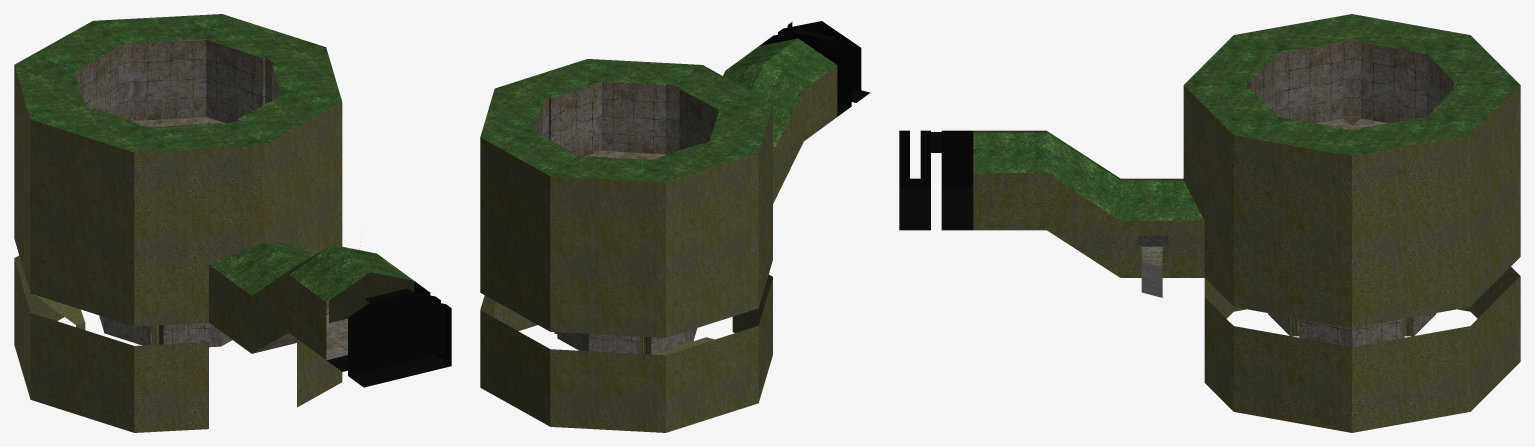
The model's file is ArenaINT.gltf.
3 renders of one model, left to right at view 1: azimuth 30°, elevation 25°; view 2: azimuth 150°, elevation 25°; view 3: azimuth 270°, elevation 25°, orthographic. The views are drawn at different scales.
Visible parts, largest first — view 1: ArenaINT; view 2: ArenaINT; view 3: ArenaINT.
Part boxes in pixels (x1=…): ArenaINT: x1=14, y1=14, x2=451, y2=432; ArenaINT: x1=480, y1=21, x2=869, y2=432; ArenaINT: x1=899, y1=14, x2=1520, y2=432.
Bounding box in the file's own units: 32 × 29 × 59.
13 materials, 13 textured.
